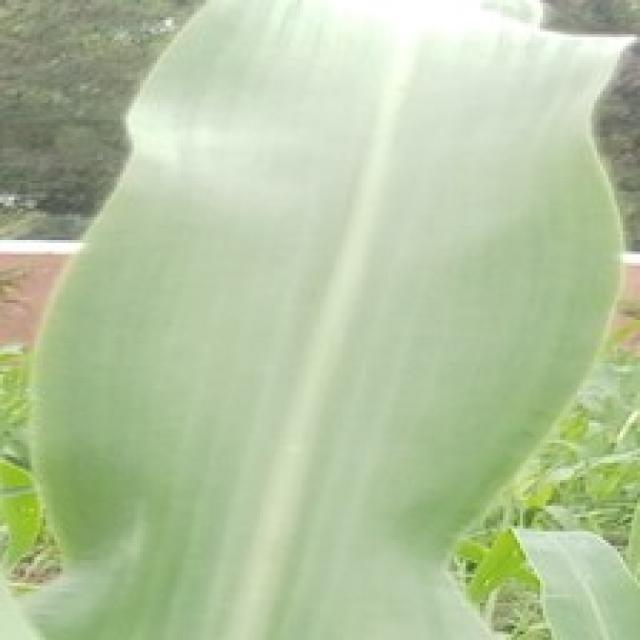Corn: (14, 0, 632, 637), (509, 523, 637, 637), (0, 443, 43, 568), (532, 0, 637, 37)
